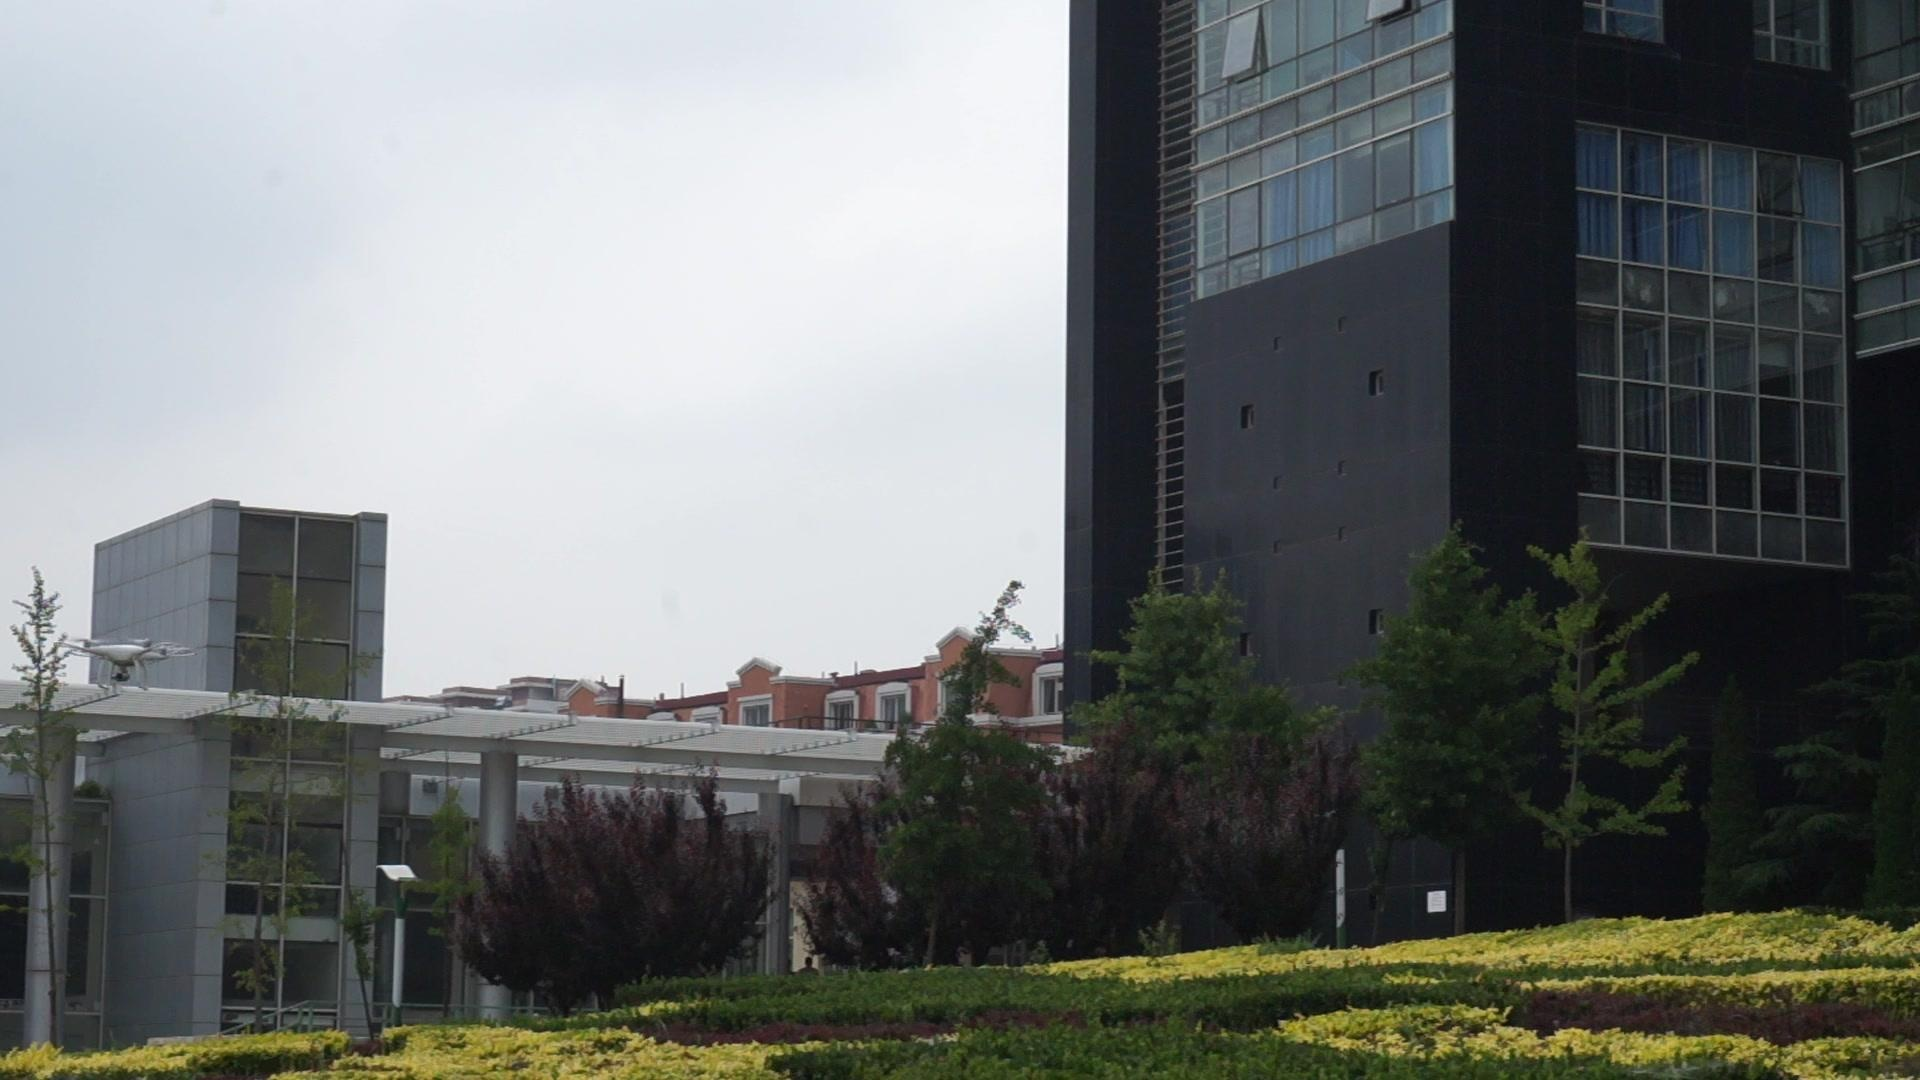UAV: (69, 638, 196, 691)
